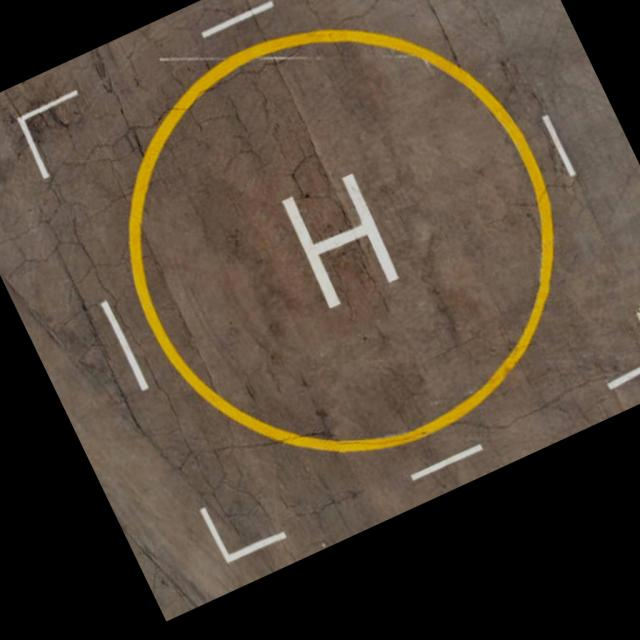helipad: (119, 22, 565, 459)
